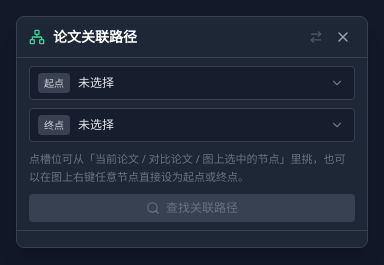
ConnectionPanel slot picker › offers the papers currently in play instead of leaving the slot uneditable
Click the button with aria-label "选择关联起点". click: (199, 83)
box: [78,75,320,91]
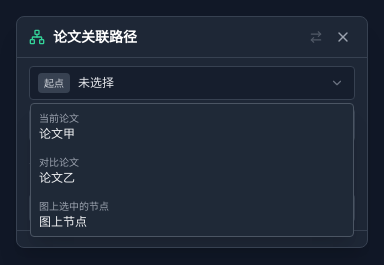
Result: the text "当前论文" is shown at [39,111,79,125]
Result: the text "对比论文" is shown at [39,155,79,169]
Result: the text "图上选中的节点" is shown at [39,199,109,213]
